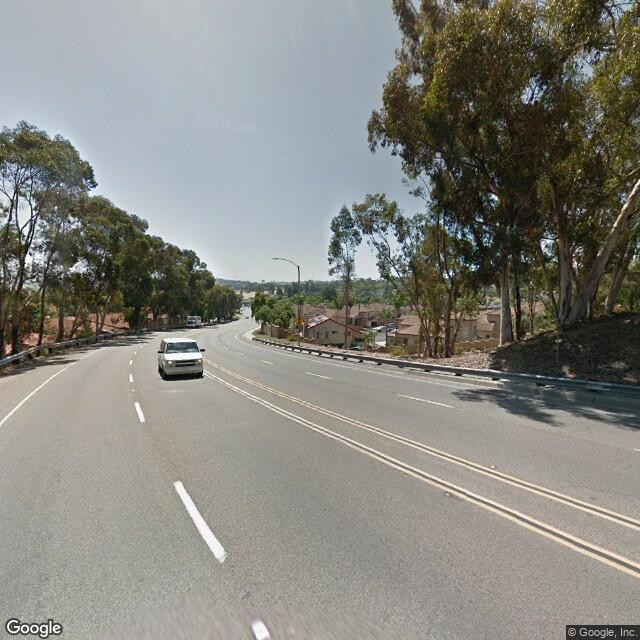litter: (472, 364, 475, 369)
